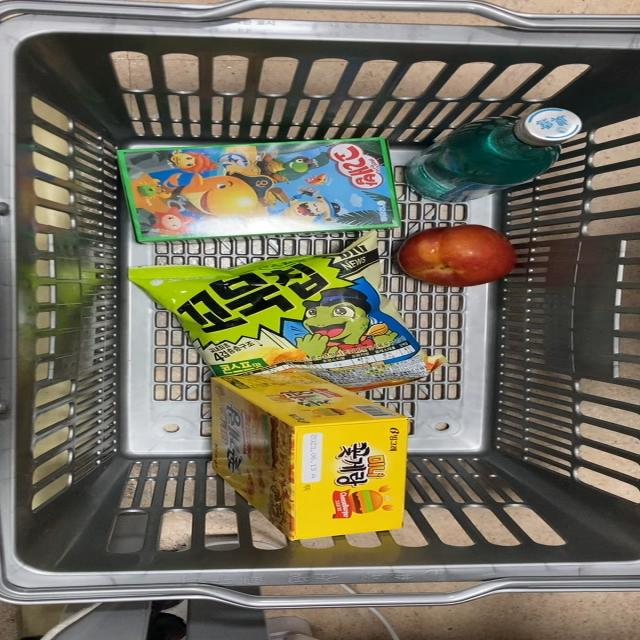ggobukchip: (126, 245, 417, 378)
goraebob: (75, 141, 409, 241)
jinro: (398, 106, 582, 208)
minicrab: (206, 372, 412, 539)
plum: (395, 216, 530, 298)
